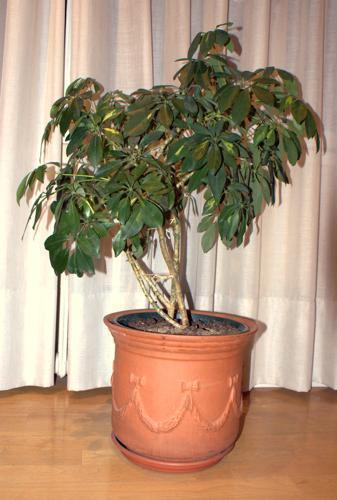Matera: (18, 30, 309, 466)
